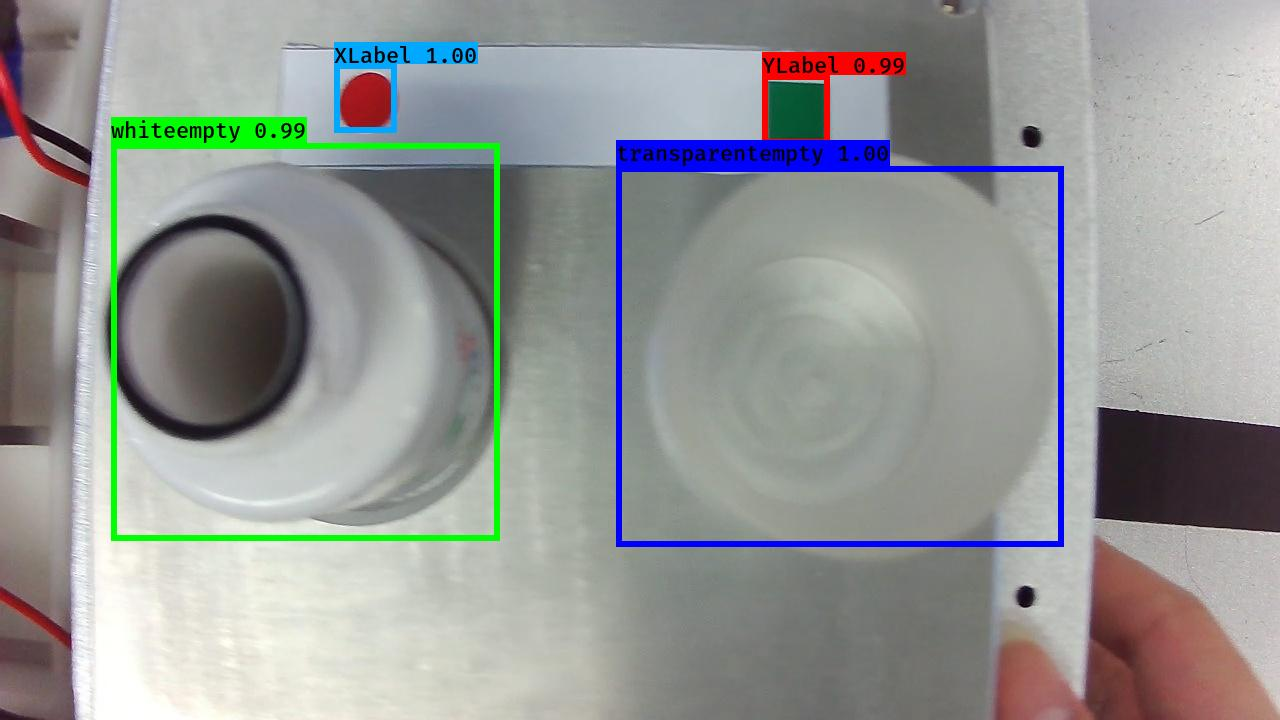XLabel: (334, 68, 403, 137)
YLabel: (762, 74, 833, 147)
transparentempty: (635, 154, 1067, 578)
whiteempty: (83, 163, 514, 533)
